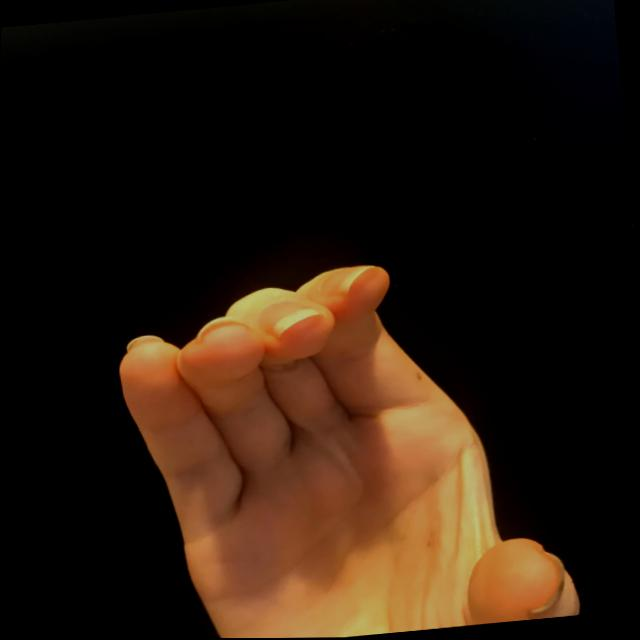C: (98, 239, 593, 638)
